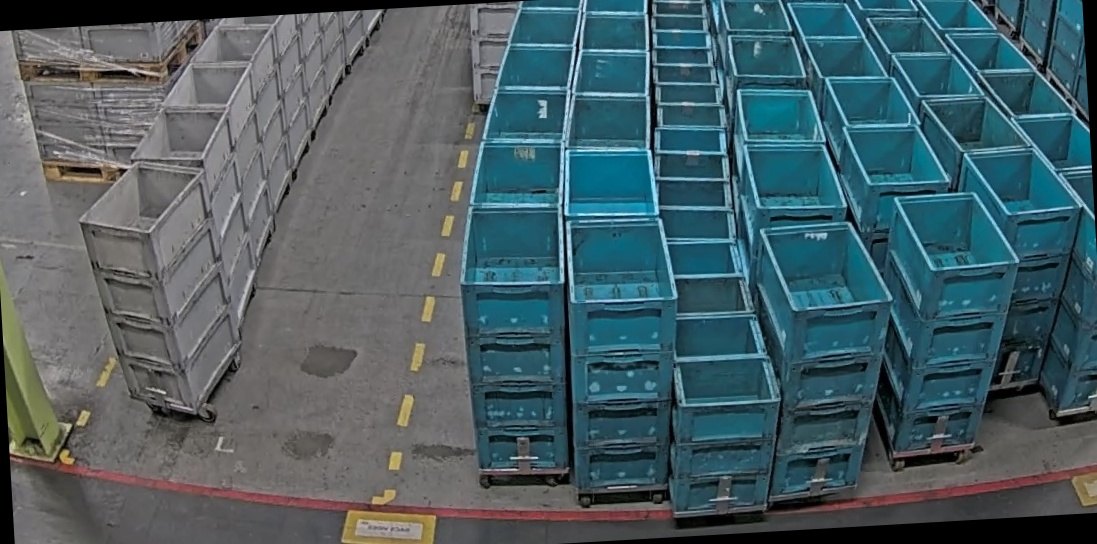4G: (75, 155, 248, 424)
B4: (862, 189, 1032, 459), (748, 219, 907, 502), (556, 215, 688, 495), (954, 144, 1095, 392), (457, 202, 581, 475)
B8: (659, 312, 786, 517)
